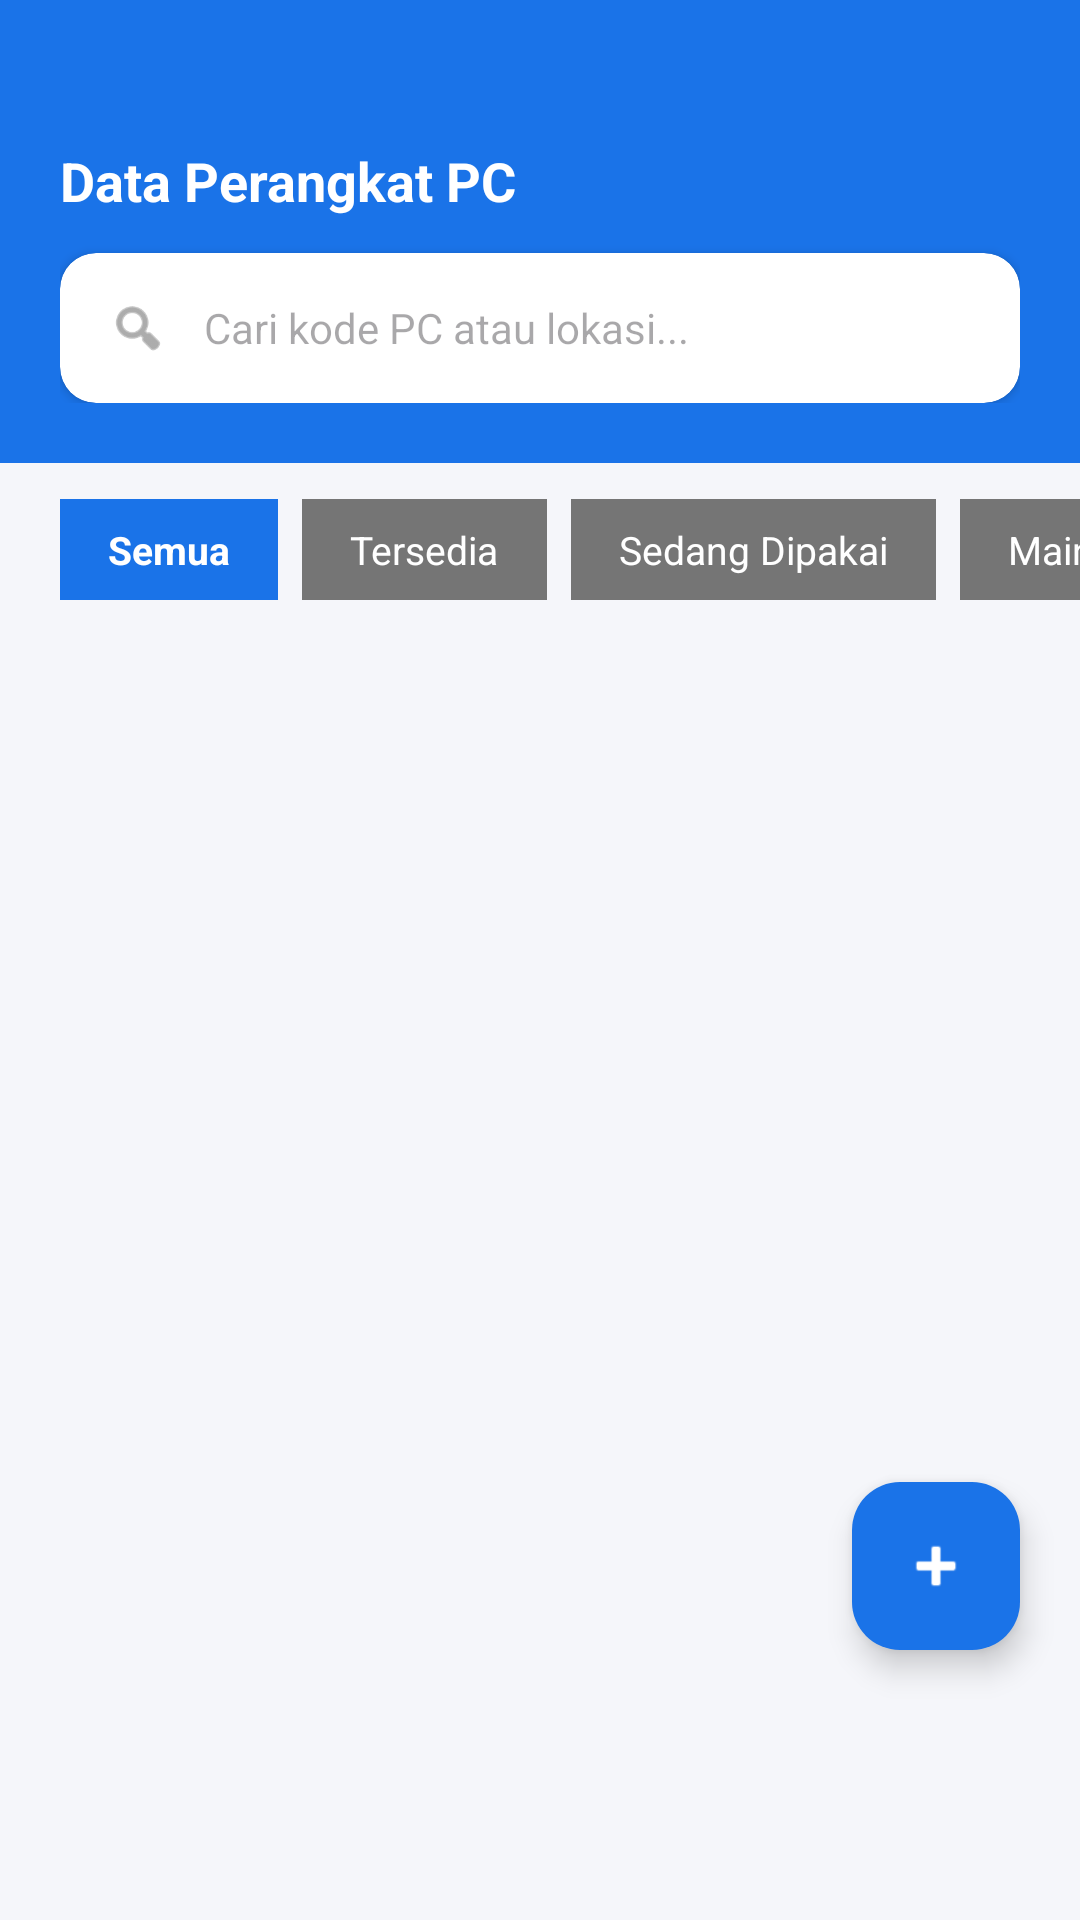

Named icons in this screenshot (1080*1920) and their centers, [x,y]:
add: [936,1566]
search: [138,328]
